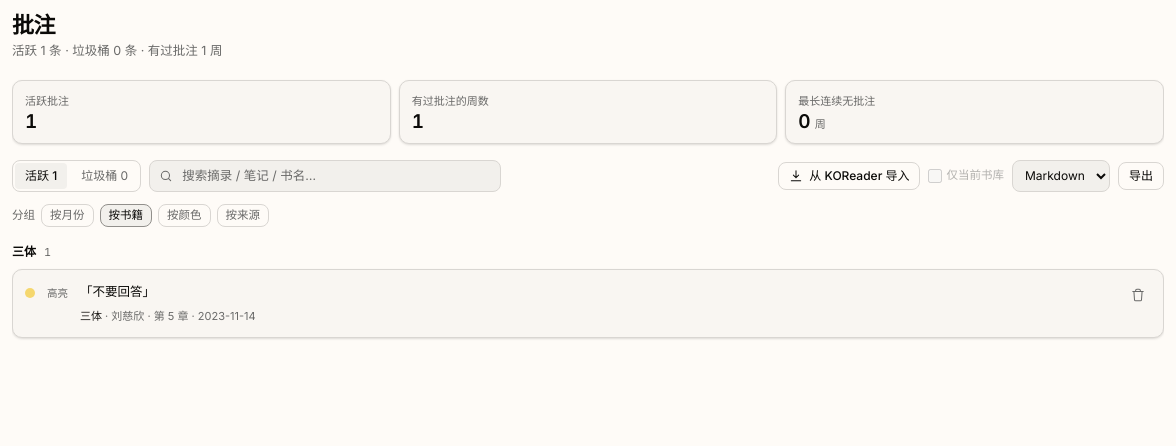
Scenario: AnnotationsView 的 KOReader 导入是两步走 › 点「确认导入」才落库（apply=true），随后重新拉列表
Click the button "从 KOReader 导入": (849, 176) [778, 162, 920, 190]
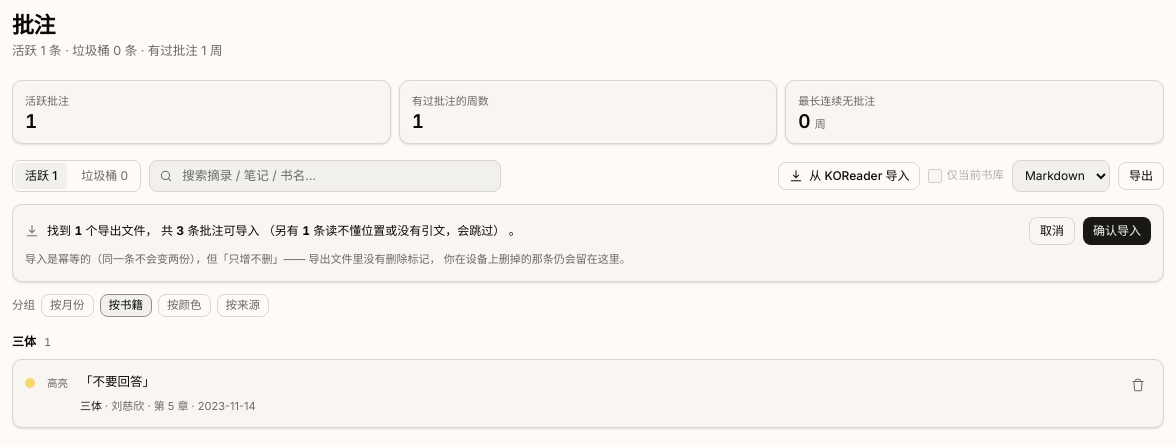
Click the button "确认导入": (1117, 231) [1083, 217, 1151, 245]
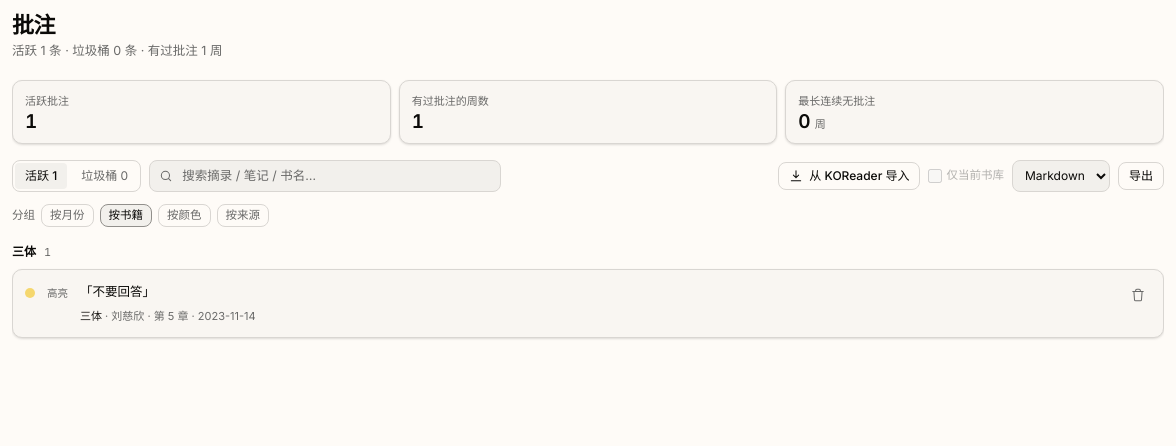
Expected: the text "确认导入" is gone
